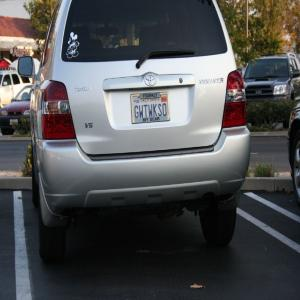Vehicle-registration-plate: (128, 88, 178, 130), (11, 119, 19, 127)
